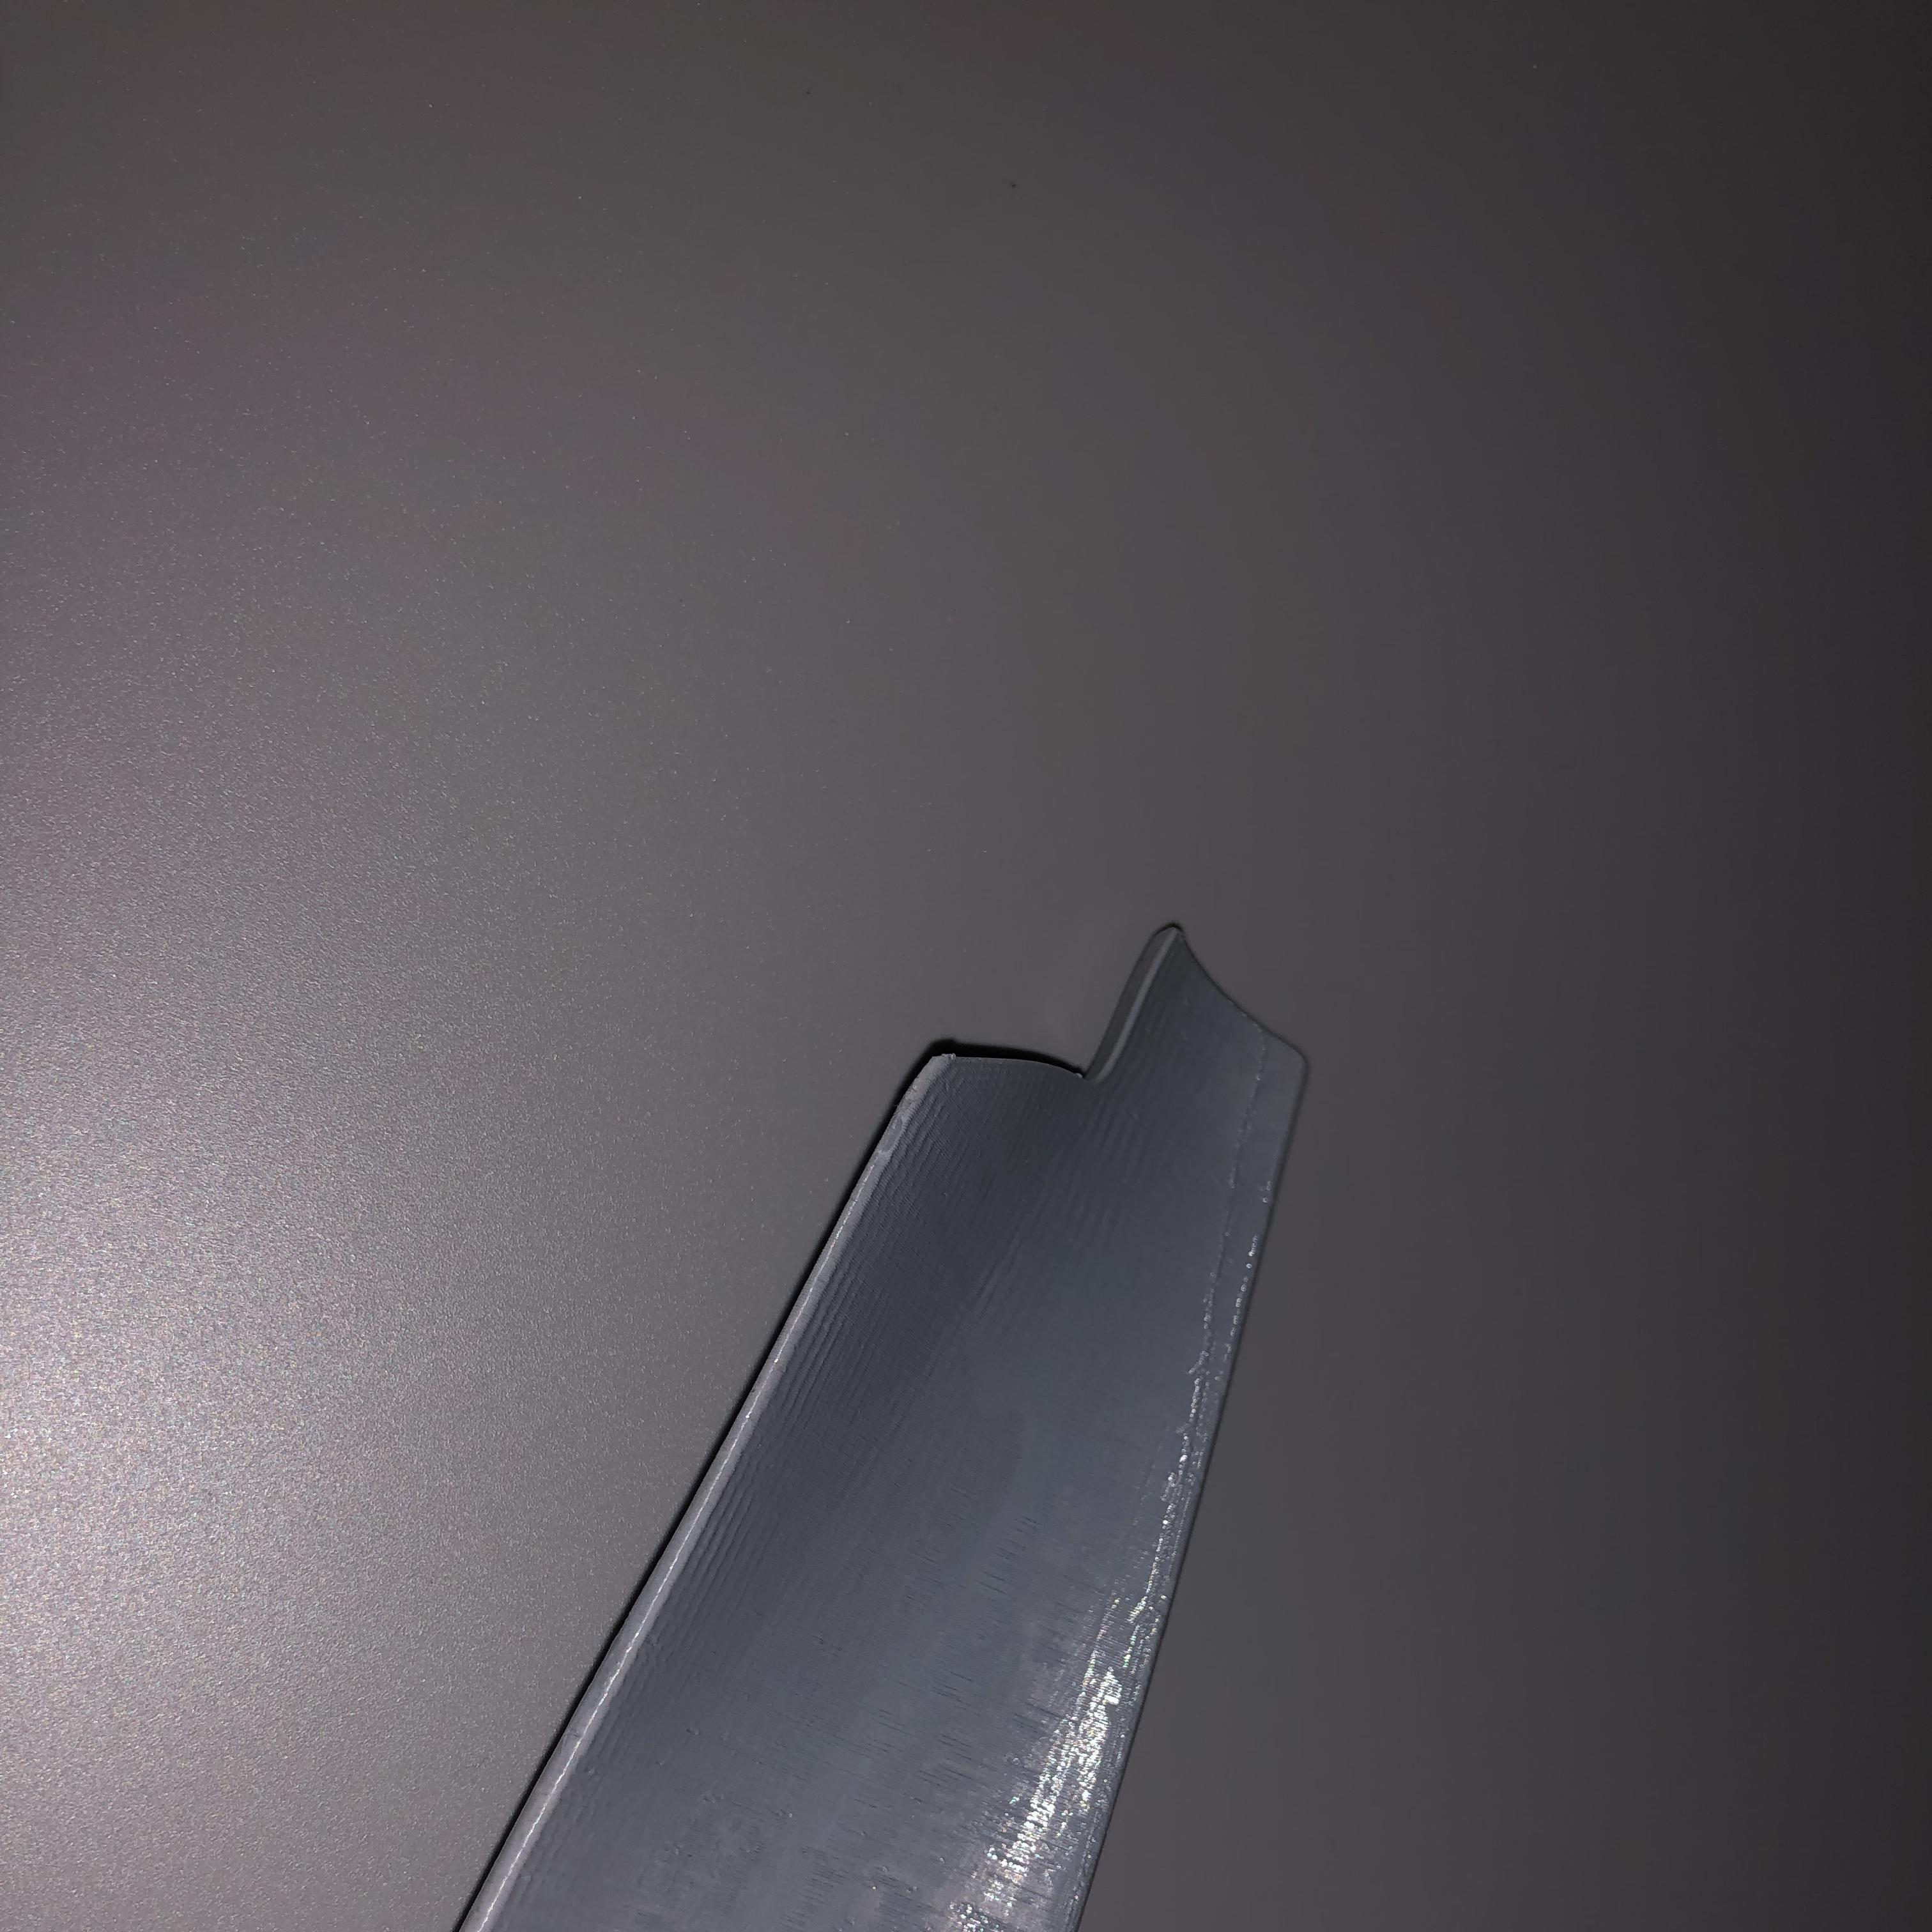fracture: (929, 915, 1175, 1102)
